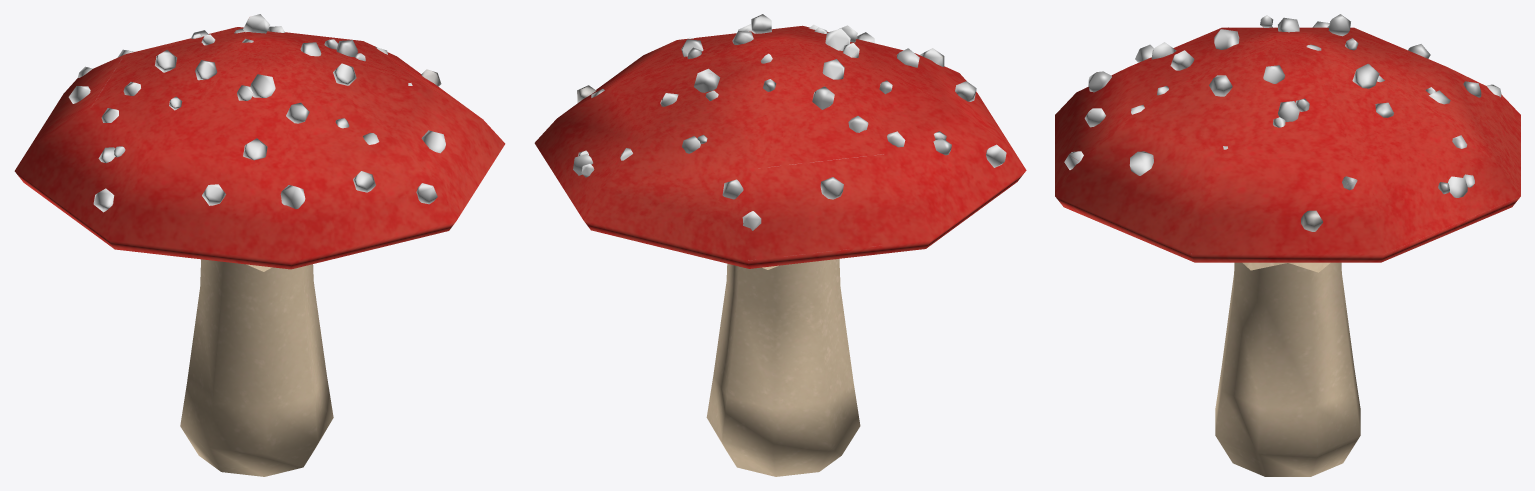
The model's file is MushGLTF.glb.
3 renders of one model, left to right at view 1: azimuth 30°, elevation 25°; view 2: azimuth 150°, elevation 25°; view 3: azimuth 270°, elevation 25°, orthographic.
Size of the model in its own units: 3.89 by 3.86 by 3.89.
1 material, 1 textured.
